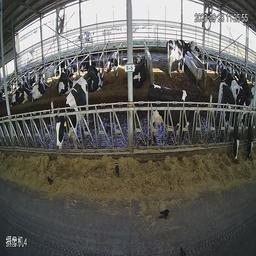cow: (146, 81, 202, 152), (54, 79, 96, 153), (215, 81, 240, 164), (236, 68, 254, 159), (167, 35, 192, 76), (85, 62, 107, 103), (59, 61, 82, 96), (103, 40, 123, 75), (19, 74, 38, 105), (133, 48, 145, 84), (33, 79, 49, 102)
